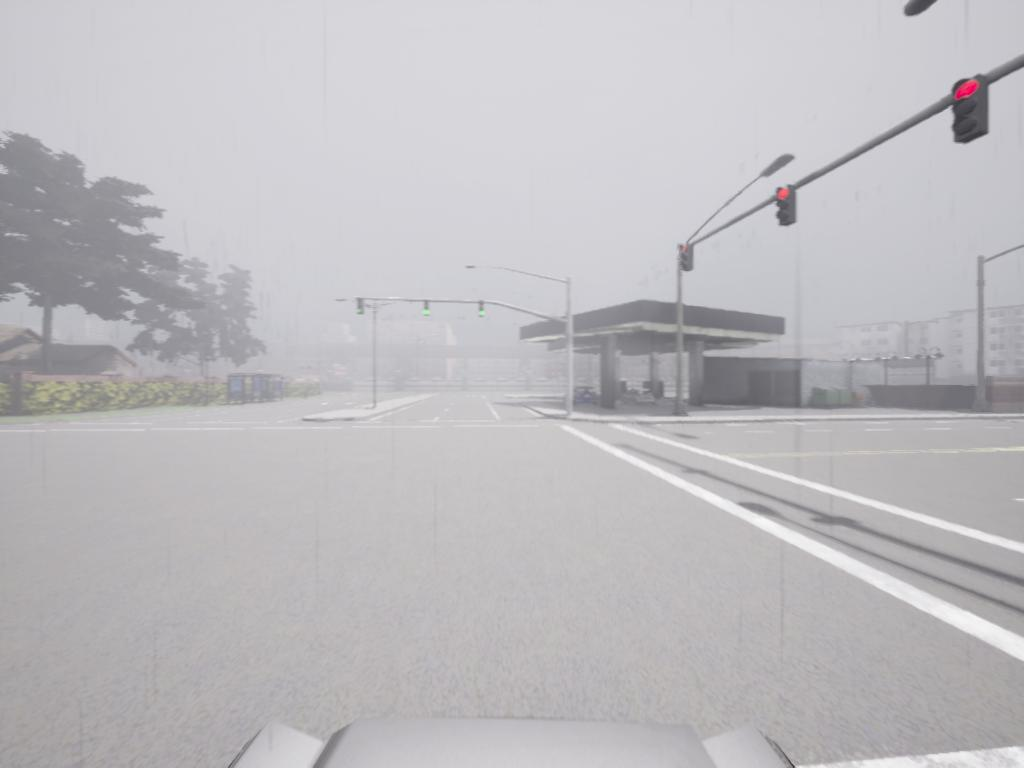traffic_light: (953, 79, 991, 145), (775, 189, 798, 228), (679, 249, 693, 274), (357, 295, 366, 319), (423, 306, 433, 319), (481, 307, 490, 321)
